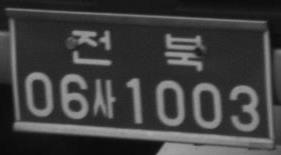0: (154, 79, 186, 127), (191, 81, 222, 129), (24, 70, 54, 117)
1: (122, 77, 150, 123)
3: (228, 84, 260, 132)
6: (59, 72, 88, 119)
사: (93, 78, 116, 118)
전북_D: (72, 29, 204, 71)
